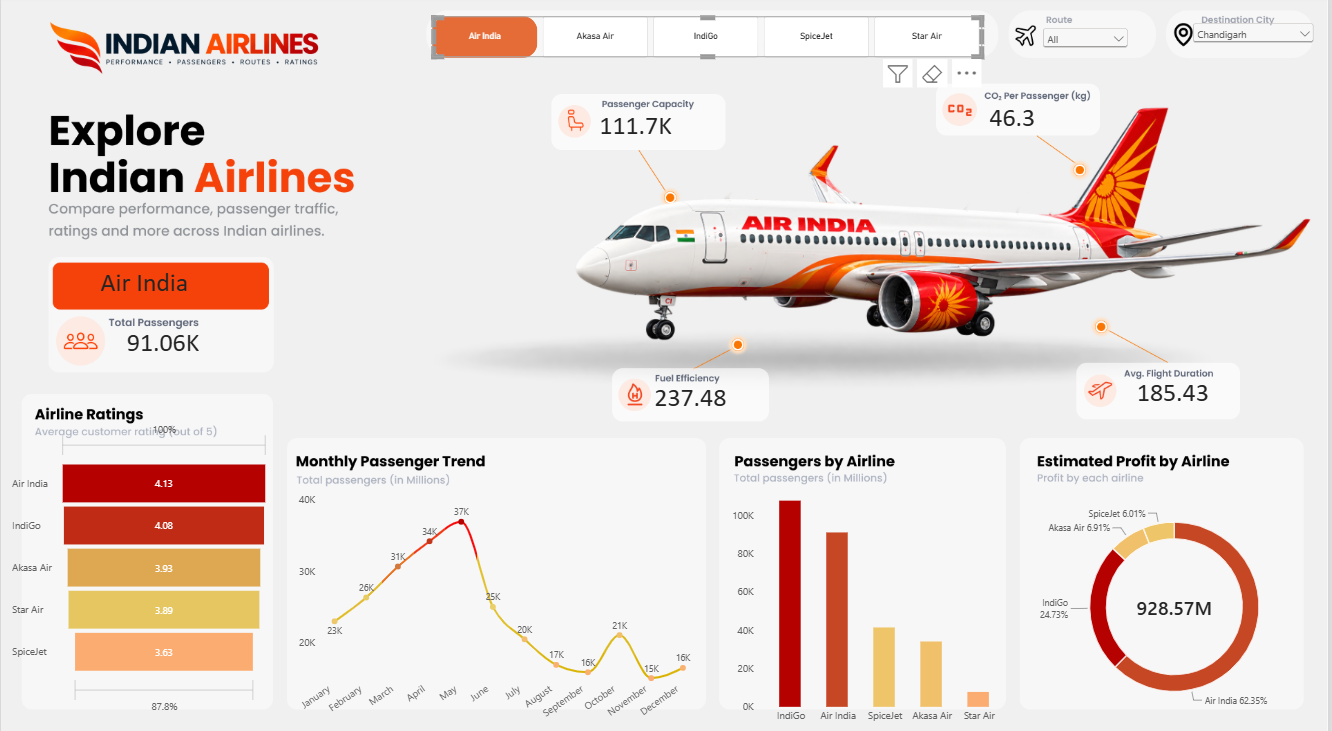

The dashboard page shown, as its layout file describes it:
{"tool":"powerbi","page":{"name":"Page 1","canvas":[1920,1080],"ordinal":0},"visuals":[{"type":"clusteredBarChart","fields":{"Category":["Flight_Data.Airline"],"Y":["Avg(Flight_Data.Customer_Rating)"]},"box":[0,598,446,462],"z":0},{"type":"clusteredColumnChart","fields":{"Category":["Flight_Data.Airline"],"Y":["Sum(Flight_Data.Passengers)"]},"box":[1042,702,434,372],"z":1000},{"type":"lineChart","fields":{"Category":["Flight_Data.Date.Variation.Date Hierarchy.Year","Flight_Data.Date.Variation.Date Hierarchy.Quarter","Flight_Data.Date.Variation.Date Hierarchy.Month"],"Y":["Sum(Flight_Data.Passengers)"]},"box":[404,706,618,374],"z":2000},{"type":"donutChart","fields":{"Category":["Flight_Data.Airline"],"Y":["Sum(Flight_Data.Estimated_Profit_INR)"]},"box":[1476,692,444,390],"z":3000},{"type":"advancedSlicerVisual","fields":{"Values":["Aircraft_Images.Airline"]},"box":[624,30,796,60],"z":4000},{"type":"image","box":[797.6,90.2,1095.1,529.3],"z":5000},{"type":"cardVisual","fields":{"Data":["Min(Aircraft_Images.Airline)"]},"box":[112,386,254,64],"z":6000},{"type":"cardVisual","fields":{"Data":["Measure Table.Total Passenger"]},"box":[150,468,180,72],"z":7000},{"type":"cardVisual","fields":{"Data":["Measure Table.Seat Capacity"]},"box":[834,158,254,64],"z":8000},{"type":"cardVisual","fields":{"Data":["Measure Table.CO2 per Passenger"]},"box":[1398,134,254,88],"z":9000},{"type":"cardVisual","fields":{"Data":["Measure Table.fule Efficiency"]},"box":[914,548,254,72],"z":10000},{"type":"cardVisual","fields":{"Data":["Measure Table.Avg flight duration"]},"box":[1612,534,188,86],"z":11000}]}

Visuals, with their boxes in screenshot pixels (x1, y1, x2, y2), scaled from the page's 1920x1080 canvas onto the 1332x731 screenshot:
clusteredBarChart - Flight_Data.Airline x Avg(Flight_Data.Customer_Rating): crop(0, 405, 309, 717)
clusteredColumnChart - Flight_Data.Airline x Sum(Flight_Data.Passengers): crop(723, 475, 1024, 727)
lineChart - Flight_Data.Date.Variation.Date Hierarchy.Year x Flight_Data.Date.Variation.Date Hierarchy.Quarter: crop(280, 478, 709, 730)
donutChart - Flight_Data.Airline x Sum(Flight_Data.Estimated_Profit_INR): crop(1024, 468, 1331, 730)
advancedSlicerVisual - Aircraft_Images.Airline: crop(433, 20, 985, 61)
image: crop(553, 61, 1313, 419)
cardVisual - Min(Aircraft_Images.Airline): crop(78, 261, 254, 305)
cardVisual - Measure Table.Total Passenger: crop(104, 317, 229, 366)
cardVisual - Measure Table.Seat Capacity: crop(579, 107, 755, 150)
cardVisual - Measure Table.CO2 per Passenger: crop(970, 91, 1146, 150)
cardVisual - Measure Table.fule Efficiency: crop(634, 371, 810, 420)
cardVisual - Measure Table.Avg flight duration: crop(1118, 361, 1249, 420)
